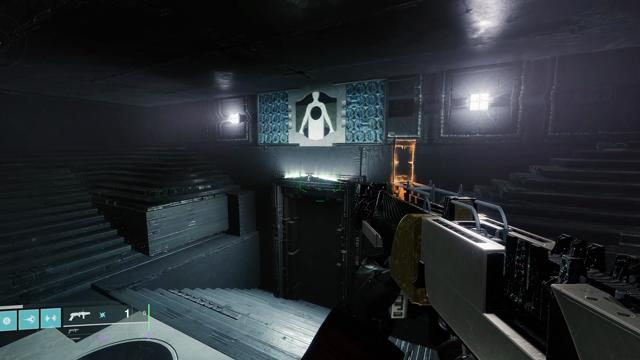grief: (295, 92, 337, 140)
